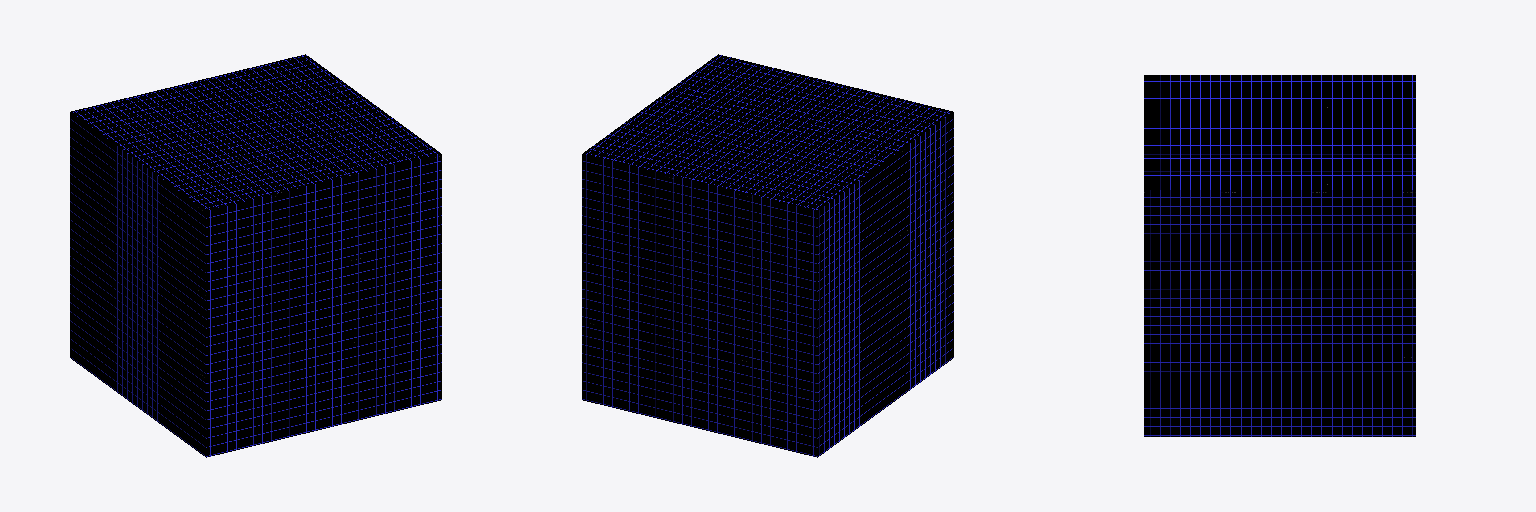
The picture shows the model from 3 angles: view 1: azimuth 30°, elevation 25°; view 2: azimuth 150°, elevation 25°; view 3: azimuth 270°, elevation 25°; orthographic projection.
Parts seen in each view (by area): view 1: pCube1; view 2: pCube1; view 3: pCube1.
Part boxes in pixels (x1,y1,x2,y2): pCube1: (70,54,441,457); pCube1: (582,54,953,457); pCube1: (1144,75,1415,436).
Bounding box in the file's own units: 1 × 1 × 1.
Materials: 1 (1 with a texture image).